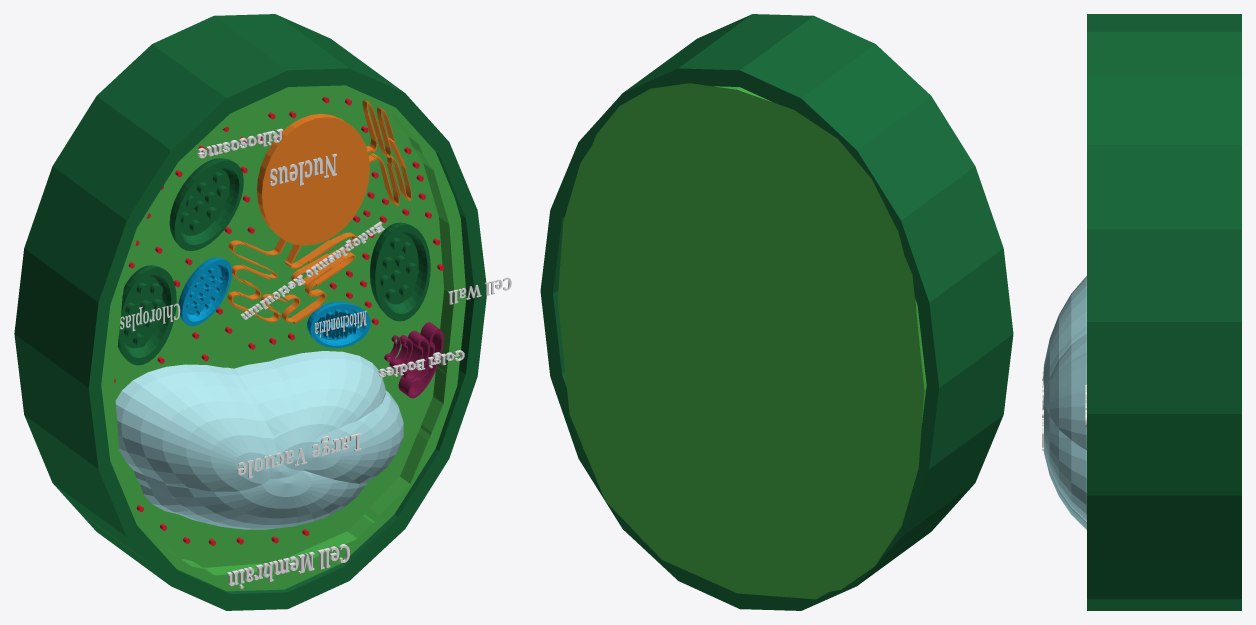
Rendered from cell.obj.
The picture shows the model from 3 angles, left to right: view 1: azimuth 30°, elevation 25°; view 2: azimuth 150°, elevation 25°; view 3: azimuth 270°, elevation 25°; orthographic projection. The views are drawn at different scales.
Visible parts, largest first — view 1: group_0_1206582, group_0_4634441, group_0_11593967, group_0_16089887, group_0_16448250, group_0_40919, group_0_9444435, group_0_15277357; view 2: group_0_4634441, group_0_1206582; view 3: group_0_1206582, group_0_11593967.
Boxes of the visible parts, x1=… form: group_0_1206582: x1=14, y1=14, x2=486, y2=610; group_0_4634441: x1=78, y1=85, x2=466, y2=591; group_0_11593967: x1=115, y1=351, x2=403, y2=529; group_0_16089887: x1=227, y1=100, x2=411, y2=323; group_0_16448250: x1=120, y1=128, x2=511, y2=588; group_0_40919: x1=178, y1=257, x2=370, y2=348; group_0_9444435: x1=384, y1=322, x2=443, y2=398; group_0_15277357: x1=114, y1=97, x2=444, y2=545; group_0_4634441: x1=557, y1=83, x2=945, y2=599; group_0_1206582: x1=540, y1=14, x2=1013, y2=610; group_0_1206582: x1=1087, y1=14, x2=1241, y2=610; group_0_11593967: x1=1042, y1=276, x2=1086, y2=529.
Bounding box in the file's own units: 50.82 × 62 × 20.
